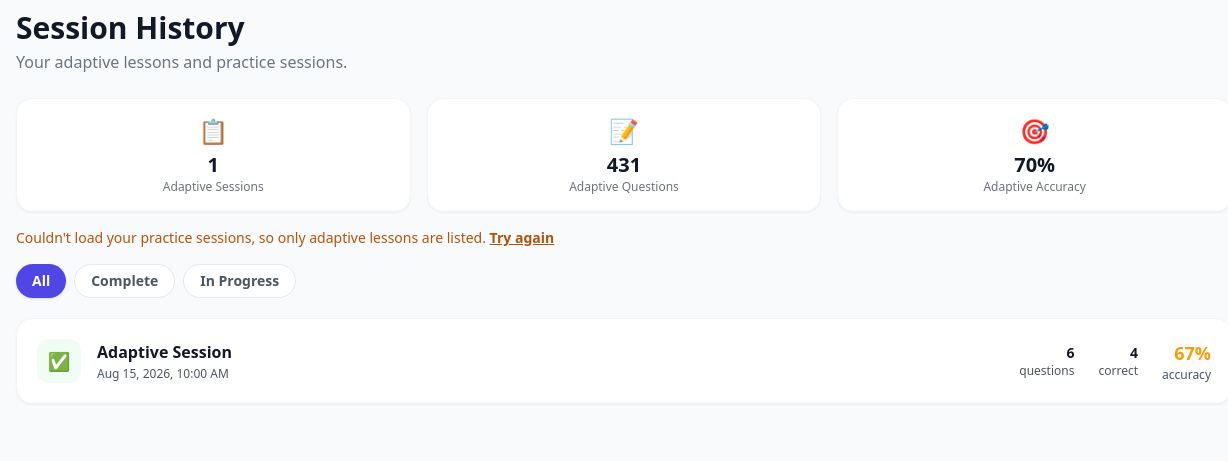
Scenario: retries the practice list from its own notice
The image size is (1228, 461).
Check: the text "Couldn't load your practice sessions" is shown, box [16, 228, 486, 247]
Click the button "Try again". click: (522, 238)
box: [490, 228, 554, 248]
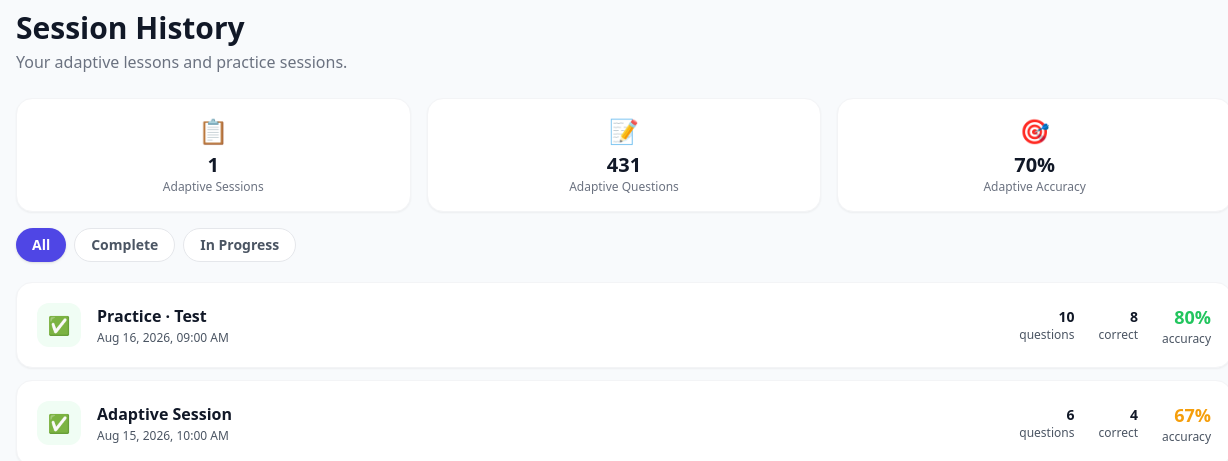
Check: the text "Practice · Test" is shown, box [97, 305, 207, 327]
Check: the text "Couldn't load your practice sessions" is gone
